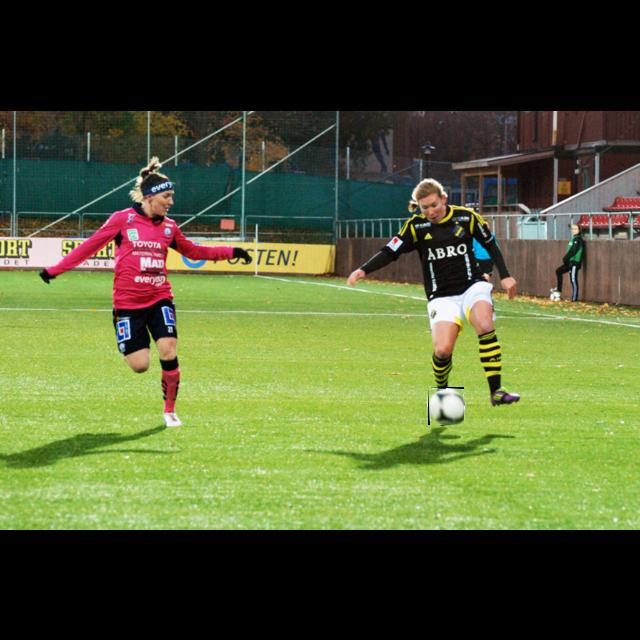Football: (428, 387, 464, 425)
